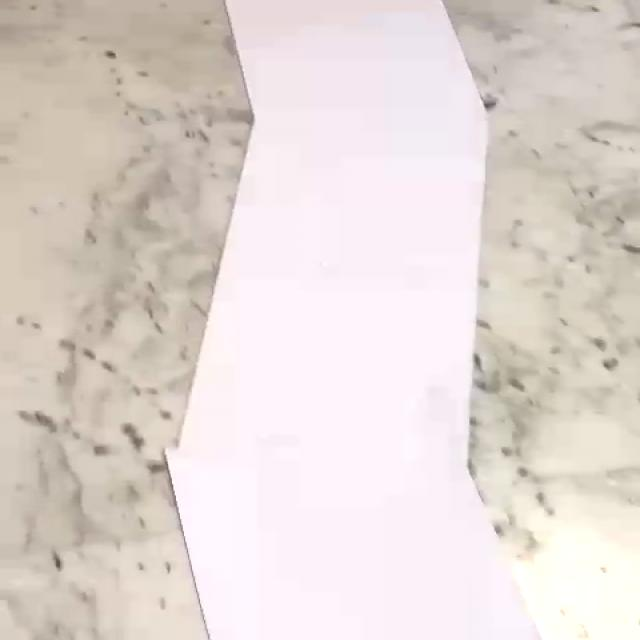road: (167, 0, 540, 640)
